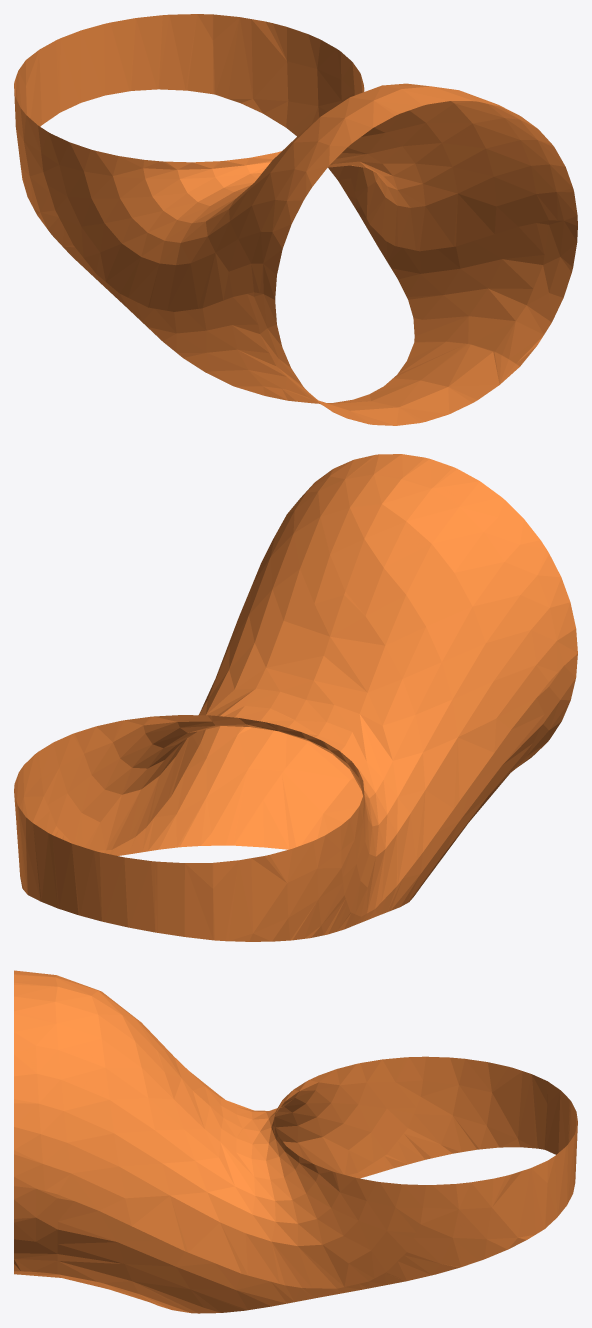
File: kuka_URDF_link_5_vis_2.dae
The picture shows the model from 3 angles, top to bottom: view 1: azimuth 30°, elevation 25°; view 2: azimuth 150°, elevation 25°; view 3: azimuth 270°, elevation 25°; orthographic projection. The views are drawn at different scales.
Visible parts, largest first — view 1: Node_0000020FCC58E1D0; view 2: Node_0000020FCC58E1D0; view 3: Node_0000020FCC58E1D0.
Part boxes in pixels (x1,y1,x2,y2): Node_0000020FCC58E1D0: (14,14,577,425); Node_0000020FCC58E1D0: (14,454,577,941); Node_0000020FCC58E1D0: (14,970,577,1313).
Bounding box in the file's own units: 0.136 × 0.1497 × 0.2525.
